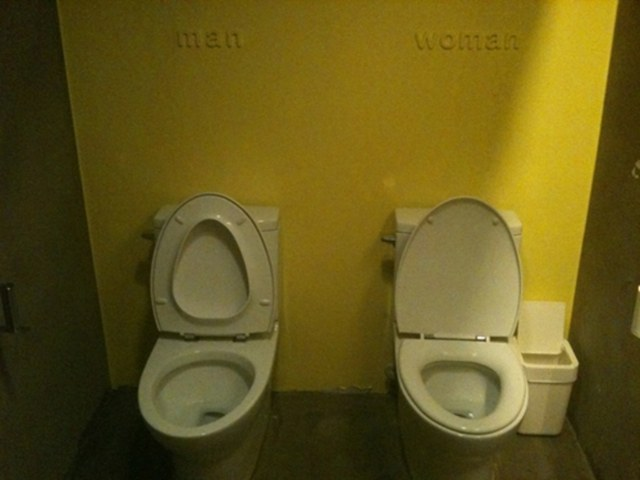toilet_paper: (632, 285, 639, 337)
